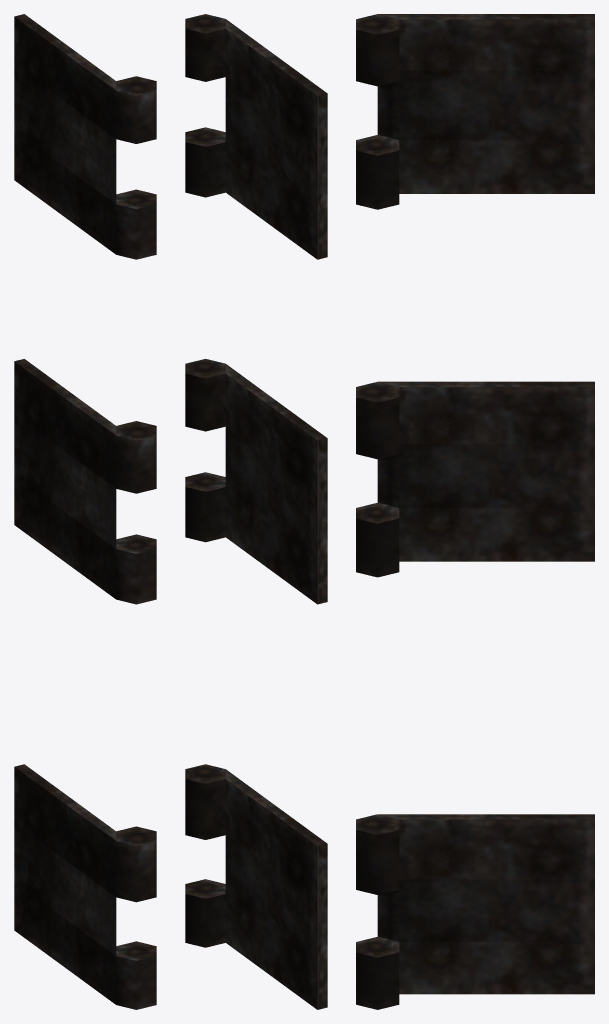
The model's file is prison_unhinged_hinges.dae.
3 views of the same model, side by side, from view 1: azimuth 30°, elevation 25°; view 2: azimuth 210°, elevation 25°; view 3: azimuth 270°, elevation 25° (orthographic). The views are drawn at different scales.
Visible parts, largest first — view 1: hinges; view 2: hinges; view 3: hinges.
Boxes of the visible parts, x1,y1,x2,y2 form: hinges: (14,14,156,1009); hinges: (185,14,327,1009); hinges: (356,14,594,1009).
Bounding box in the file's own units: 0.0836 × 1.81 × 0.4009.
